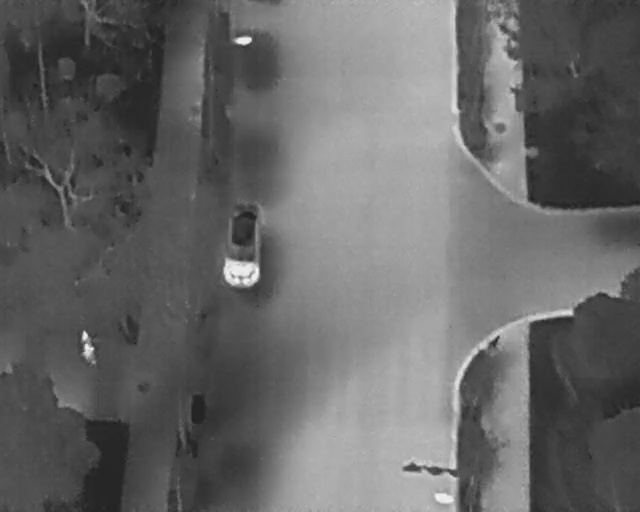Car: (217, 200, 264, 288)
Person: (81, 344, 98, 366), (79, 329, 92, 347)
